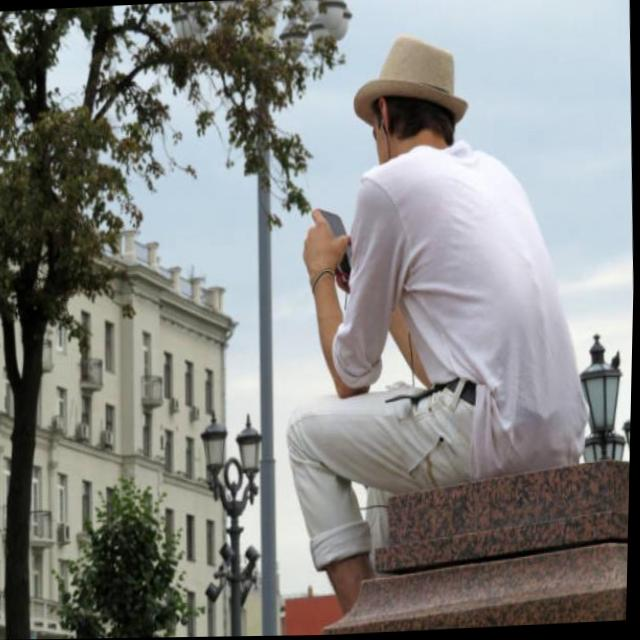no helmet: (339, 19, 478, 176)
